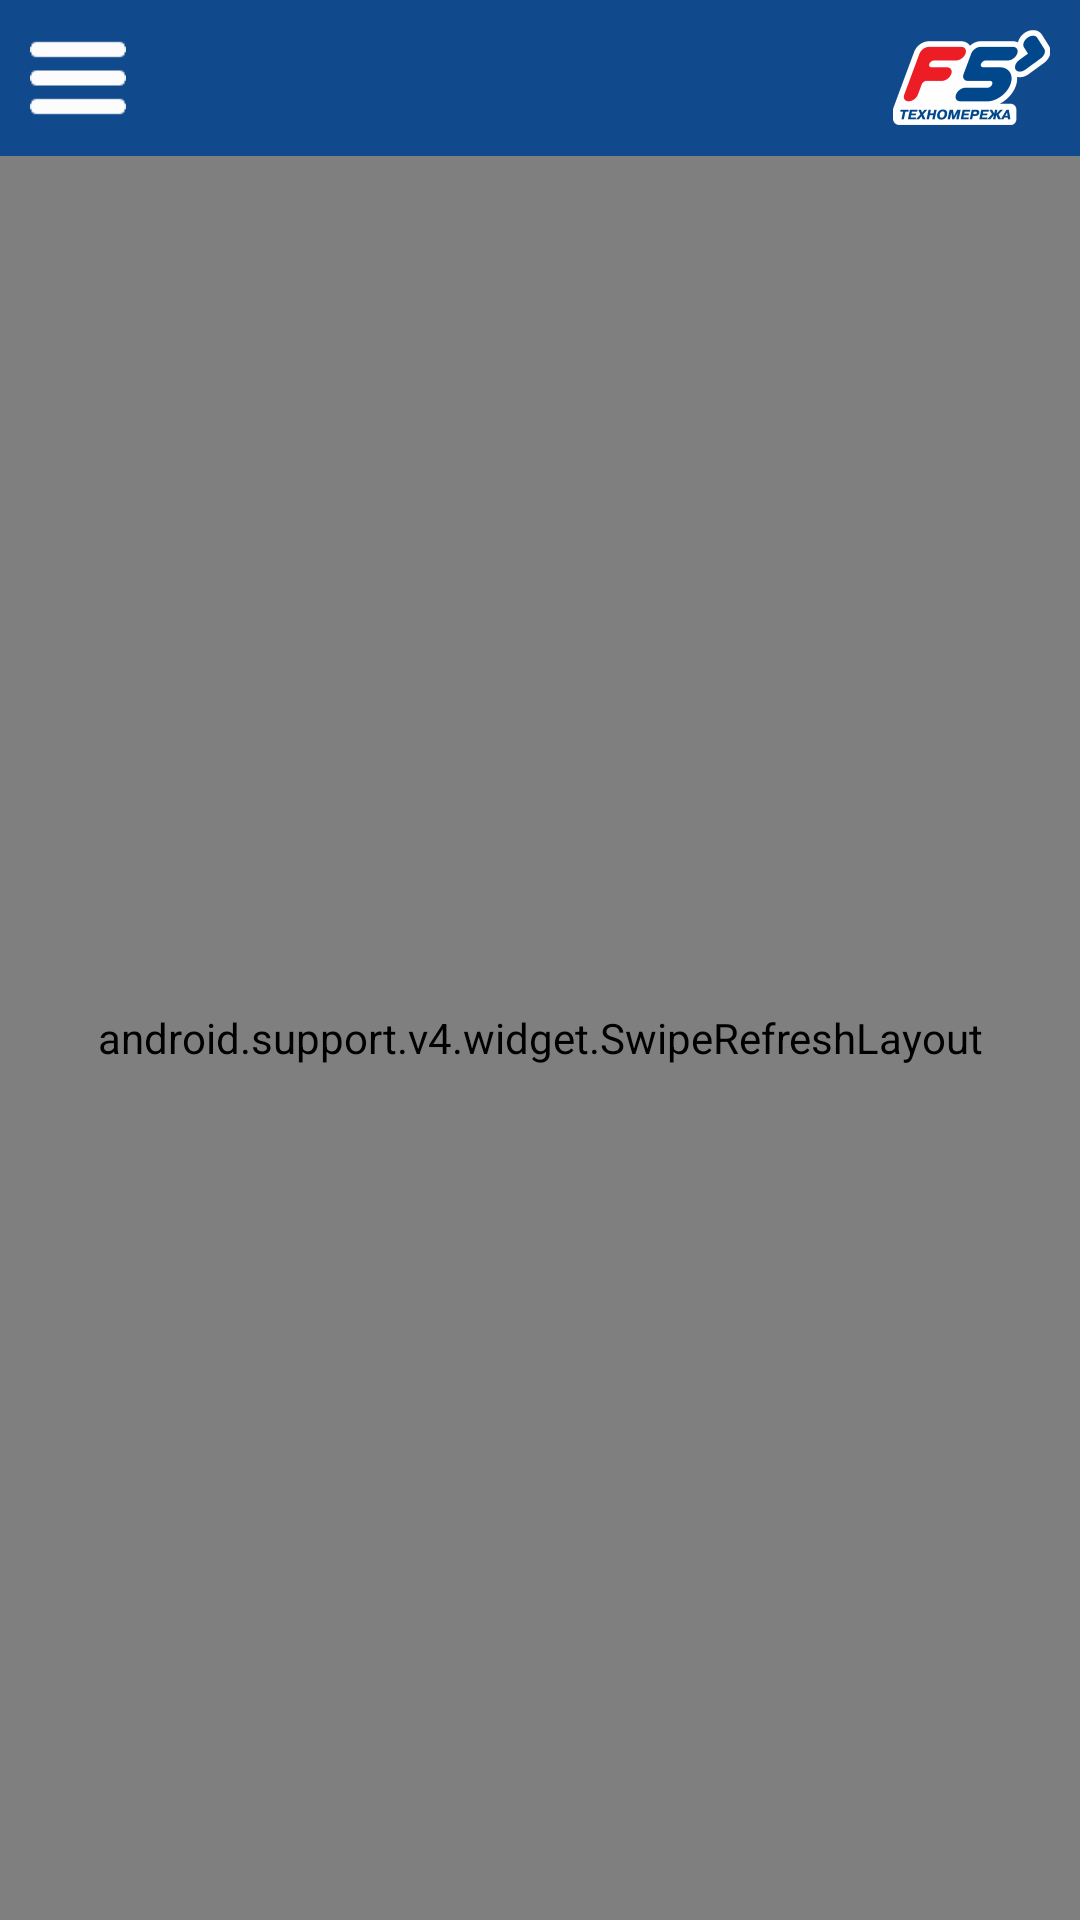

Icon bounding boxes for this 1080px x 1920px phone screenshot, format [x1=x1, y1=y1, x2=x2, y2=y2]:
menu: [x1=30, y1=41, x2=126, y2=115]
